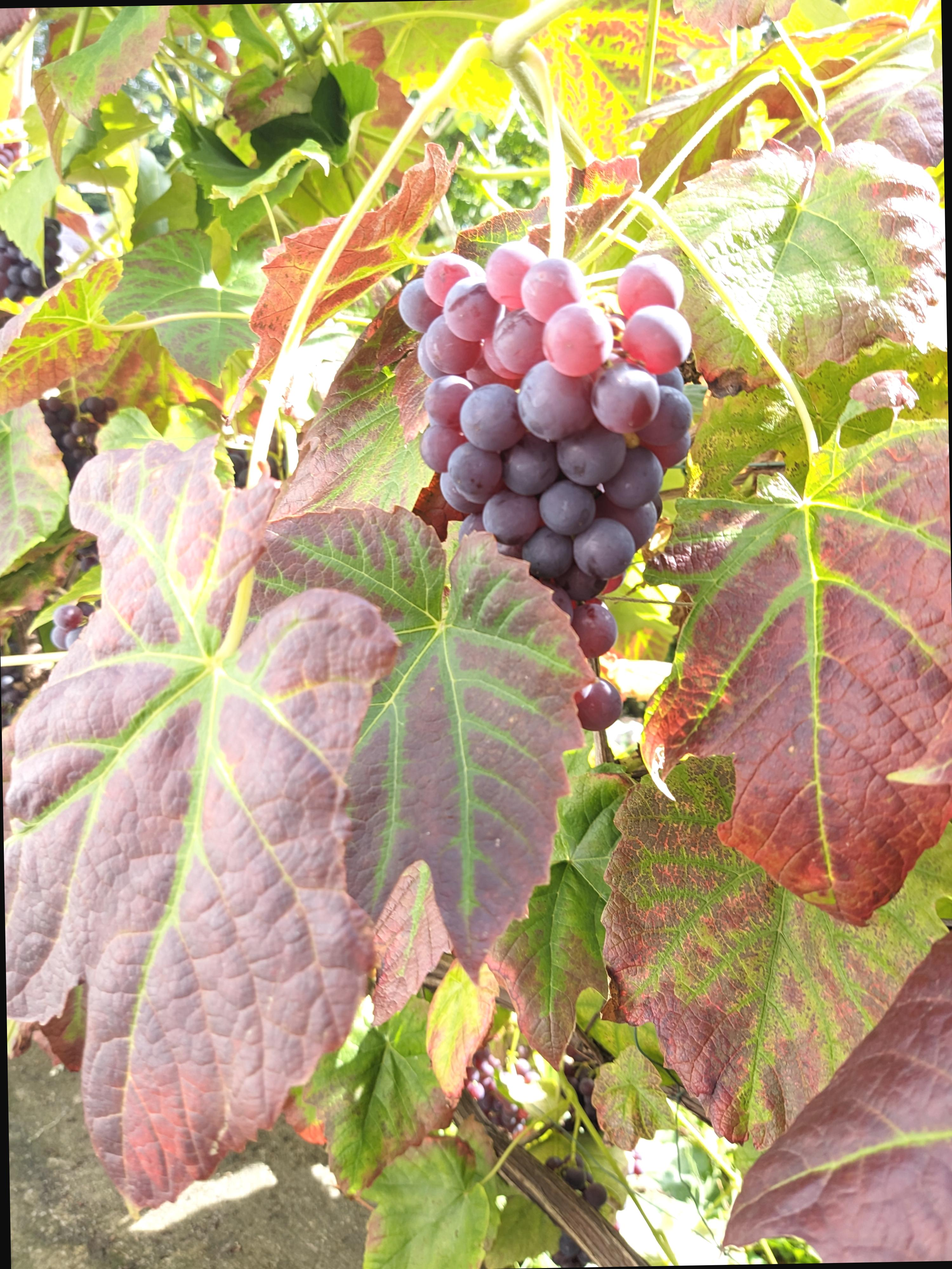Grape Ripe: (388, 236, 694, 744), (447, 1043, 595, 1269), (28, 402, 113, 482), (0, 225, 53, 310)
